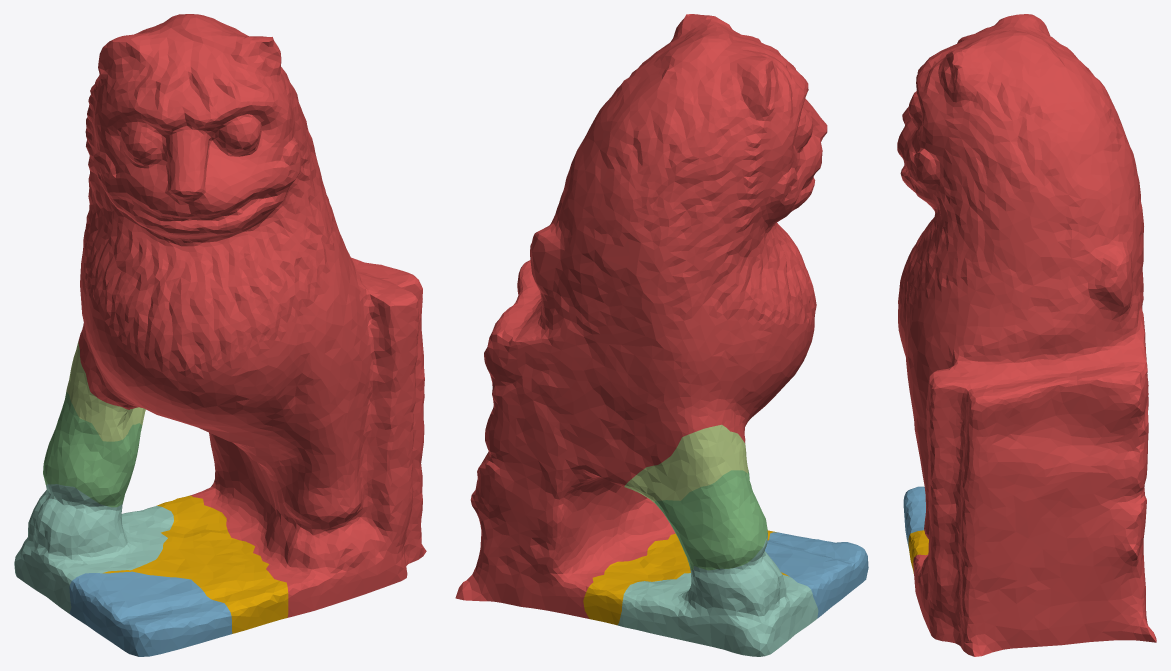
Rendered from fractured_14_6pcs.glb.
The picture shows the model from 3 angles, left to right: view 1: azimuth 30°, elevation 25°; view 2: azimuth 150°, elevation 25°; view 3: azimuth 270°, elevation 25°; orthographic projection. The views are drawn at different scales.
Visible parts, largest first — view 1: piece_1.obj, piece_4.obj, piece_2.obj, piece_0.obj, piece_3.obj, piece_5.obj; view 2: piece_1.obj, piece_4.obj, piece_3.obj, piece_5.obj, piece_2.obj, piece_0.obj; view 3: piece_1.obj, piece_2.obj, piece_0.obj.
Part boxes in pixels (x1,y1,x2,y2): piece_1.obj: (78, 14, 426, 617); piece_4.obj: (14, 484, 173, 613); piece_2.obj: (69, 571, 232, 656); piece_0.obj: (103, 495, 288, 633); piece_3.obj: (43, 391, 142, 507); piece_5.obj: (66, 341, 145, 441); piece_1.obj: (455, 14, 827, 618); piece_4.obj: (617, 535, 818, 656); piece_3.obj: (654, 470, 767, 570); piece_5.obj: (624, 424, 748, 502); piece_2.obj: (765, 532, 868, 618); piece_0.obj: (583, 530, 788, 625); piece_1.obj: (897, 14, 1156, 656); piece_2.obj: (903, 486, 925, 552); piece_0.obj: (908, 530, 928, 573).
Bounding box in the file's own units: 0.6128 × 1 × 0.4453.
